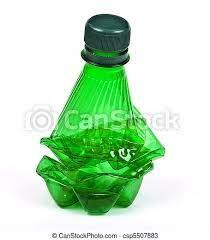plastic: (37, 17, 168, 210)
